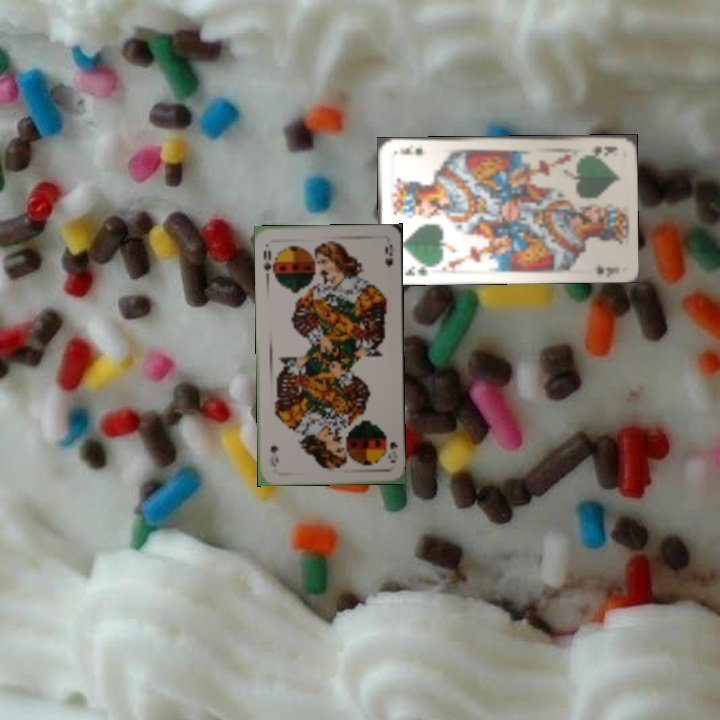GK: (400, 261, 434, 279), (588, 141, 620, 157)
SO: (260, 246, 277, 281), (384, 438, 400, 466)
